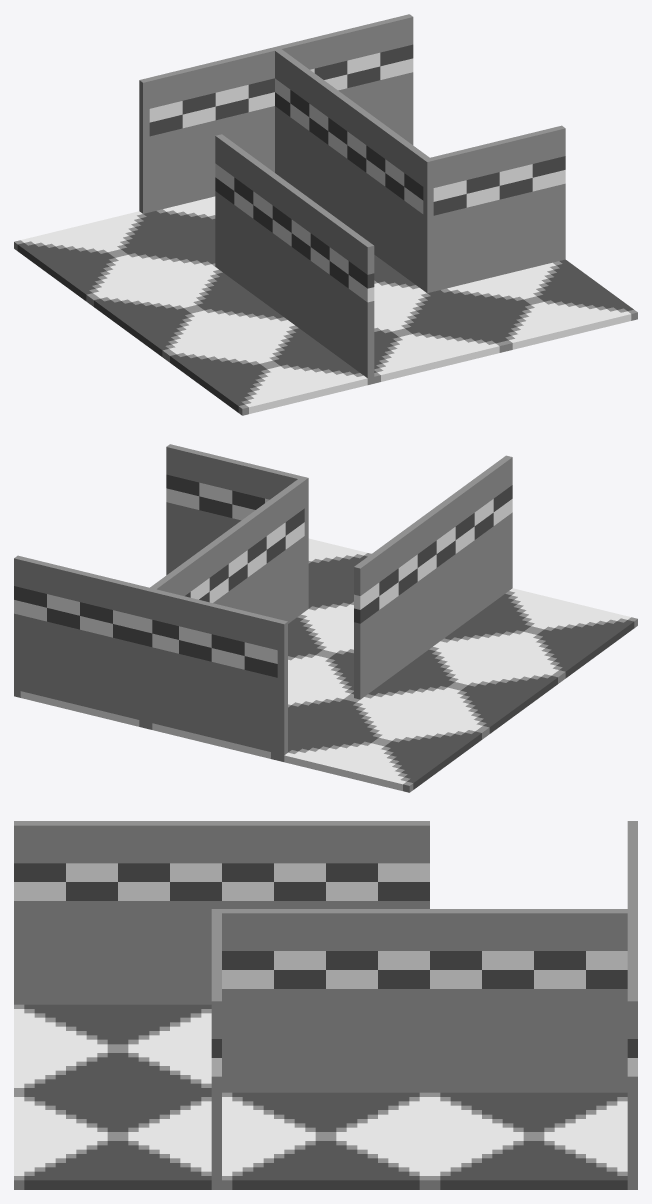
The model's file is level_maze-24.obj.
3 views of the same model, one above another, from view 1: azimuth 30°, elevation 25°; view 2: azimuth 150°, elevation 25°; view 3: azimuth 270°, elevation 25° (orthographic). The views are drawn at different scales.
Parts seen in each view (by area): view 1: level_maze-24; view 2: level_maze-24; view 3: level_maze-24.
Boxes of the visible parts, x1,y1,x2,y2 form: level_maze-24: (14, 14, 637, 415); level_maze-24: (14, 444, 637, 792); level_maze-24: (14, 821, 637, 1189).
Size of the model in its own units: 60 by 20 by 60.
1 material, 1 textured.
